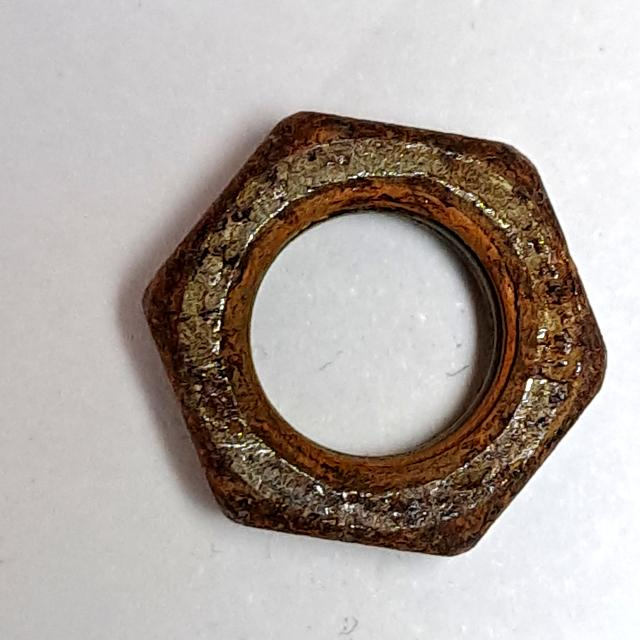Rust: (130, 96, 615, 572)
